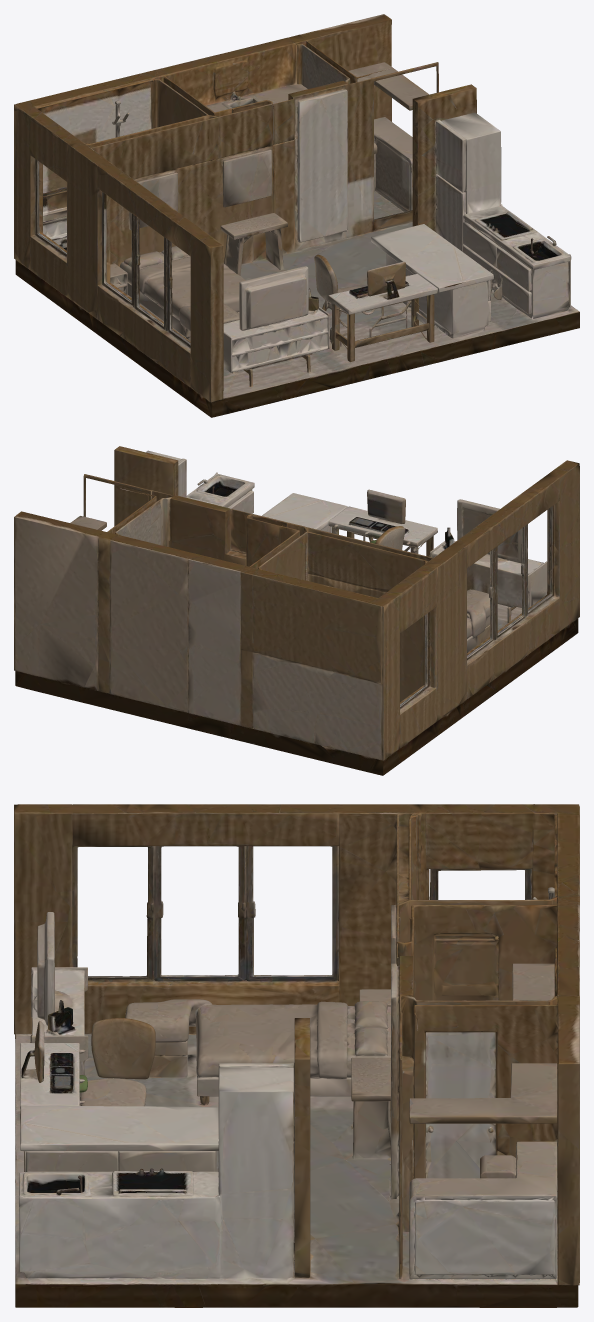
The model's file is floor_plan_7.glb.
3 renders of one model, top to bottom at view 1: azimuth 30°, elevation 25°; view 2: azimuth 150°, elevation 25°; view 3: azimuth 270°, elevation 25°, orthographic. The views are drawn at different scales.
Bounding box in the file's own units: 1.9 × 0.8363 × 1.75.
1 material, 1 textured.
